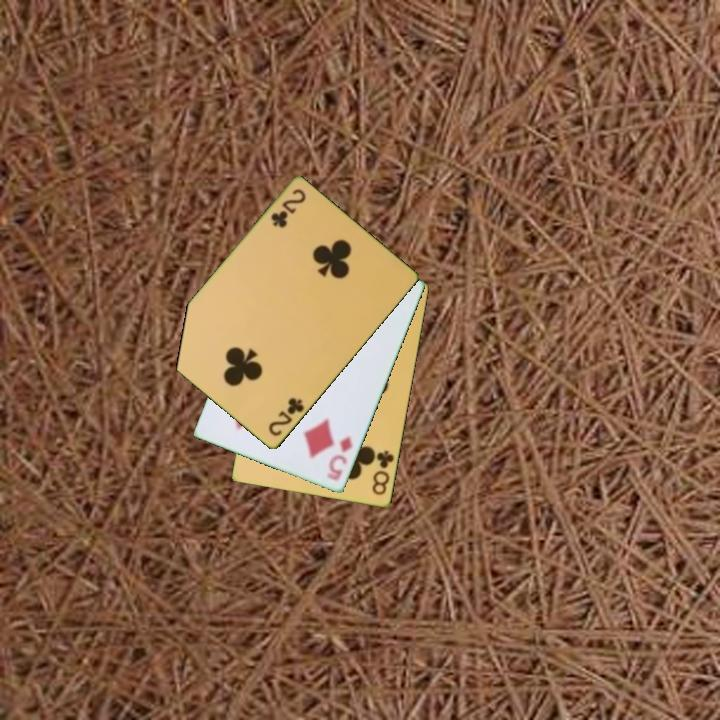2c: (265, 394, 307, 440), (267, 186, 309, 231)
5d: (323, 433, 356, 484)
8c: (369, 447, 397, 498)
